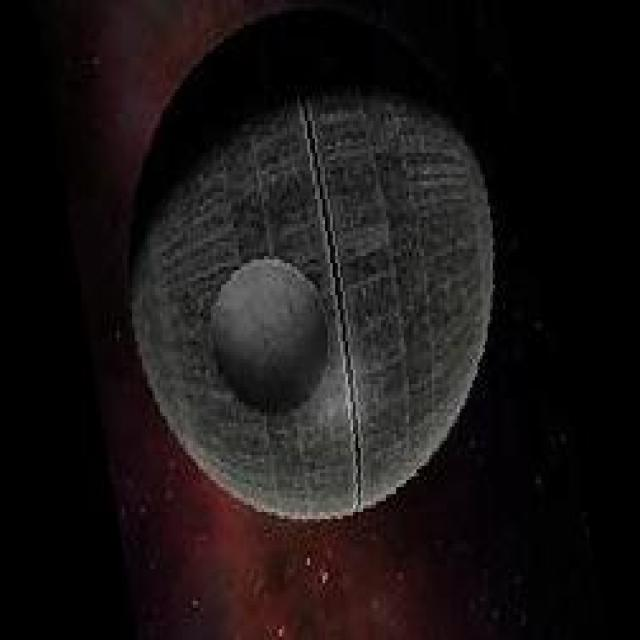Death Star: (122, 71, 500, 523)
